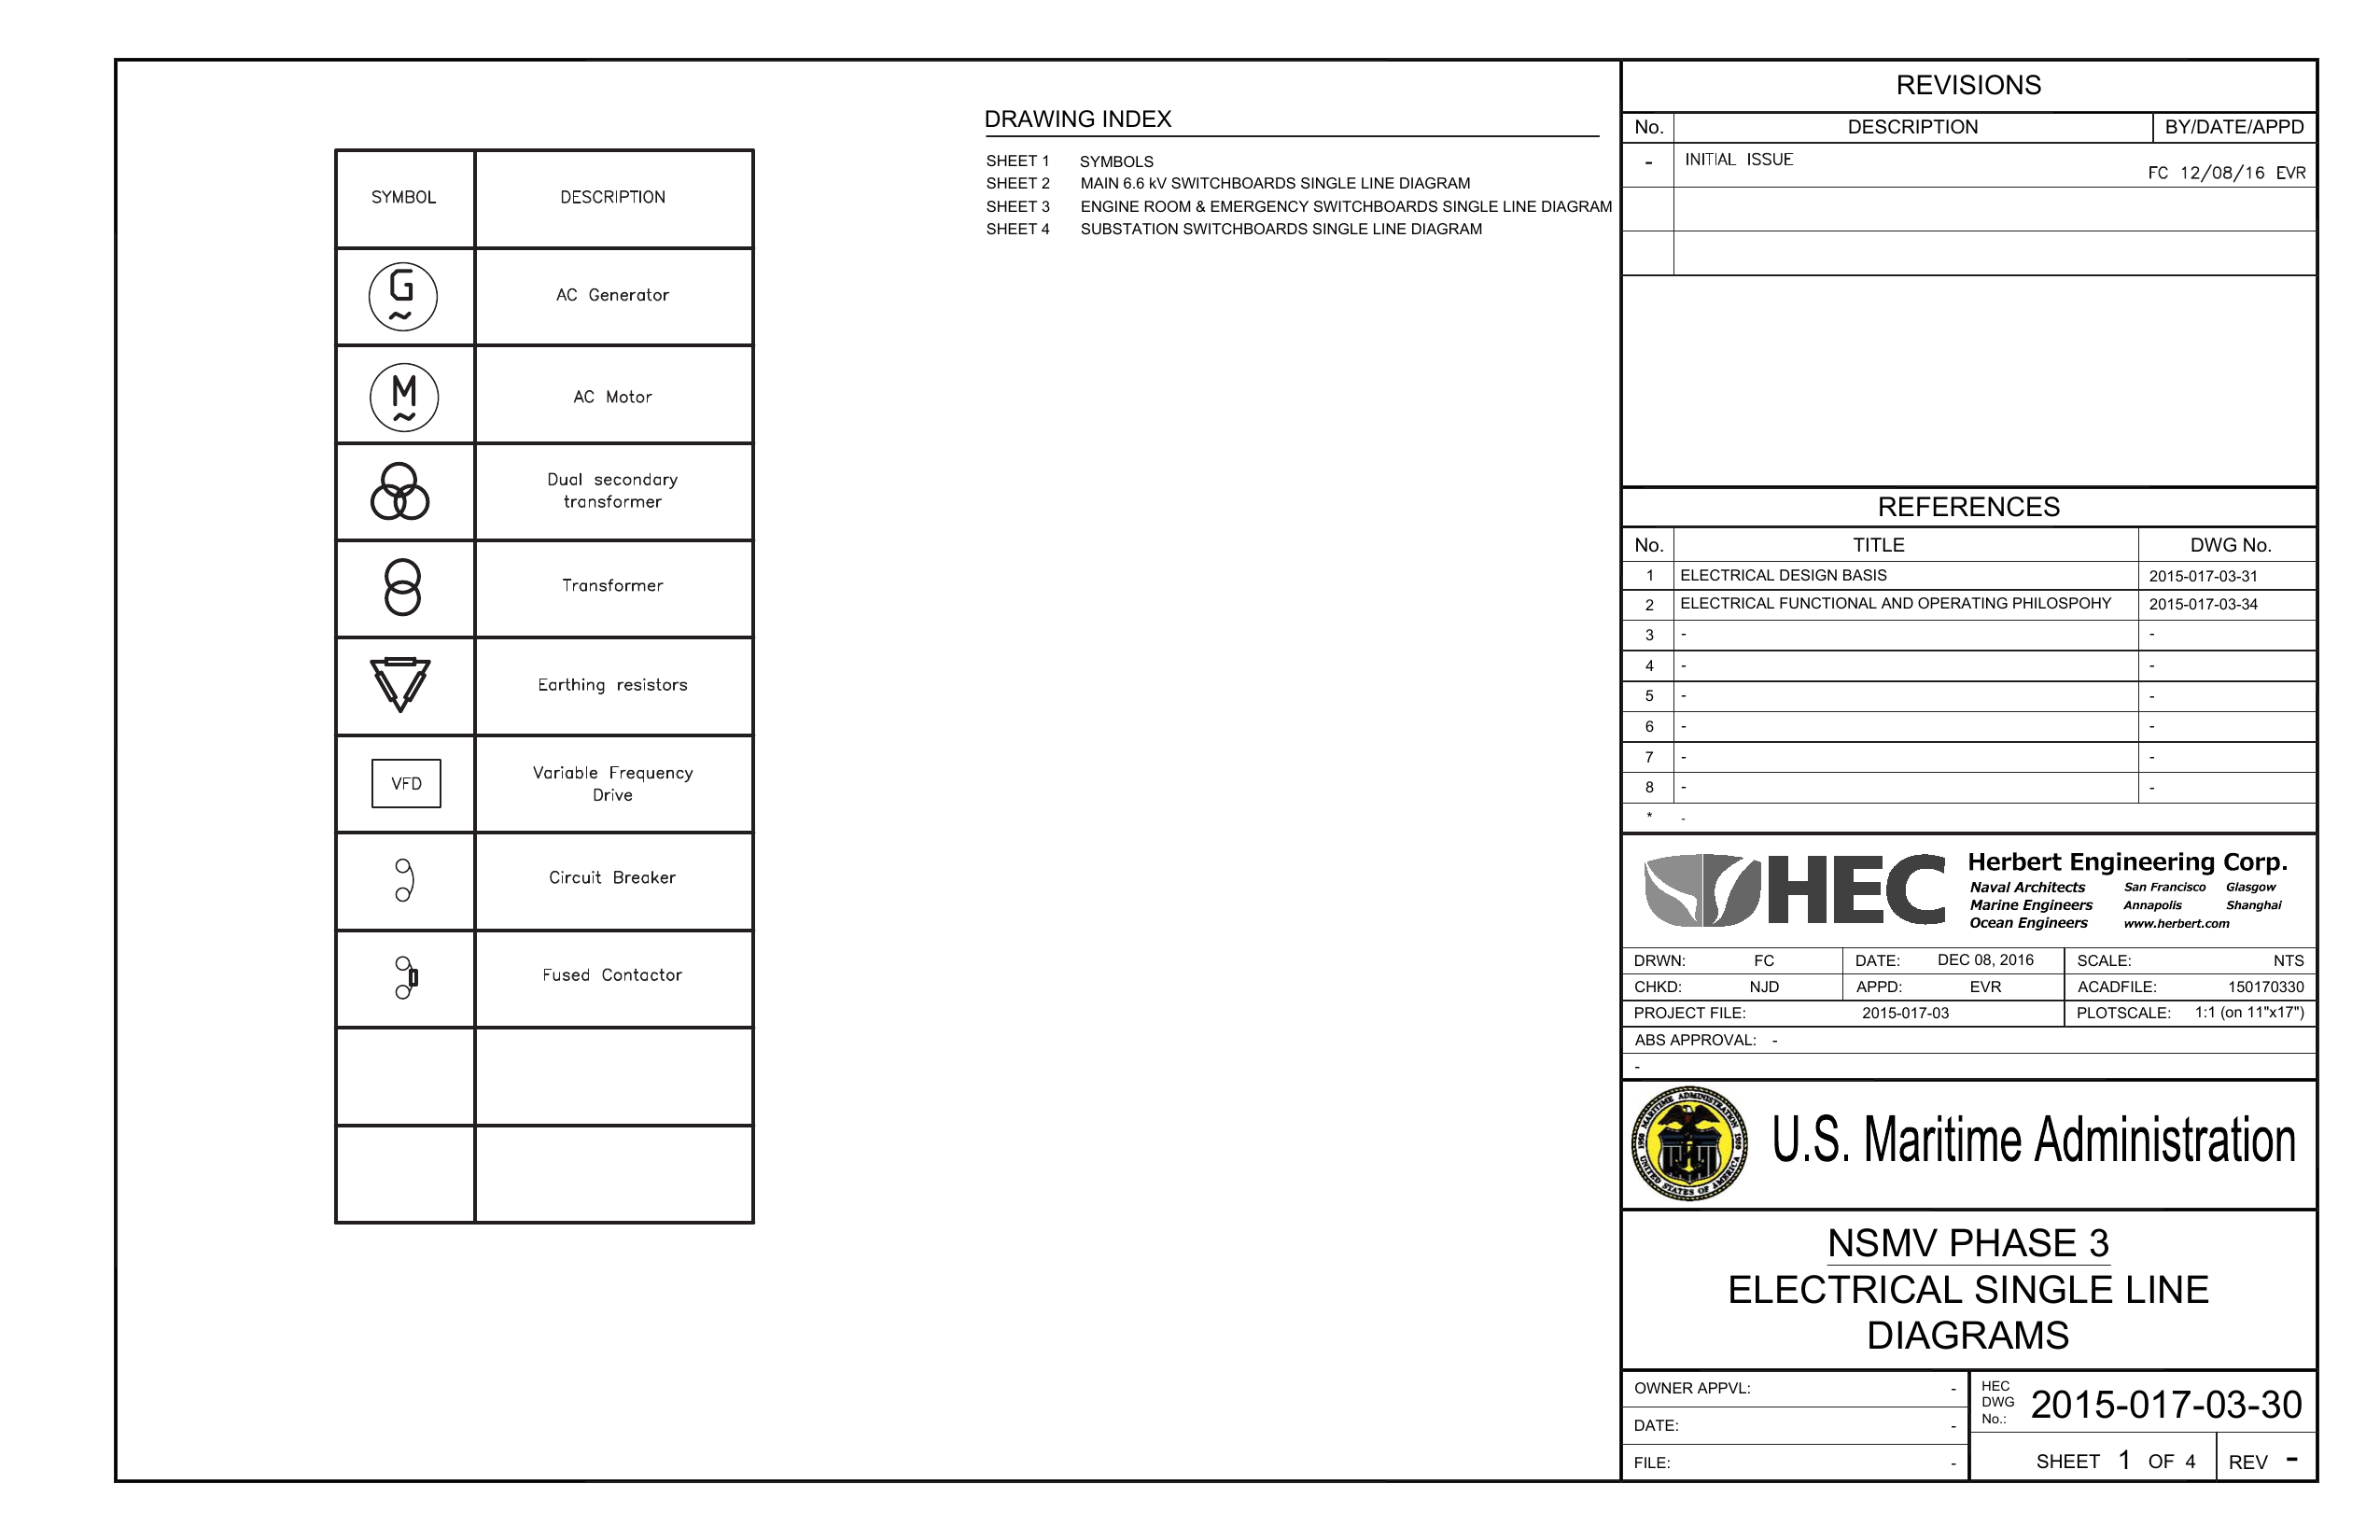circuit_breaker: (368, 834, 449, 914), (371, 938, 441, 1013)
